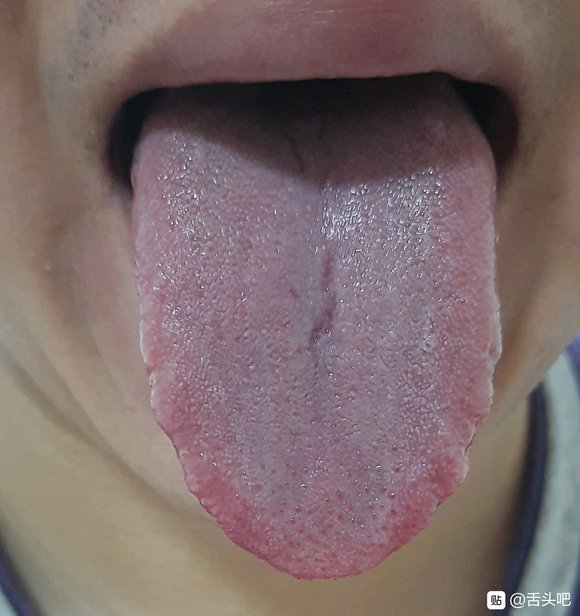baitaishe: (131, 78, 502, 577)
liewenshe: (299, 255, 338, 351)
